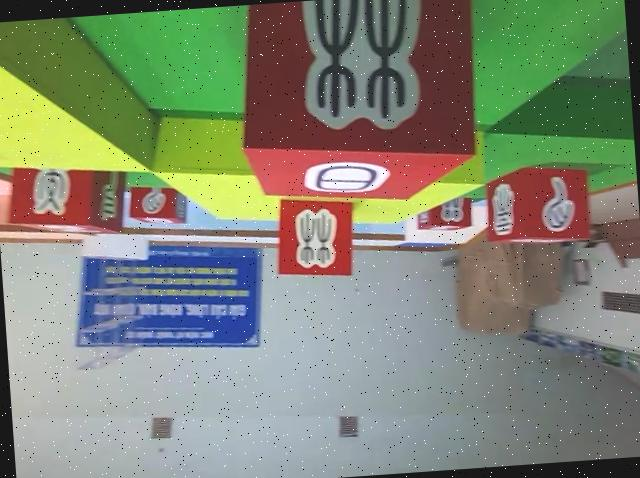R2 Fake: (229, 0, 485, 211), (2, 143, 132, 246), (482, 155, 592, 250), (274, 191, 360, 284), (130, 172, 194, 227), (414, 184, 476, 235)
